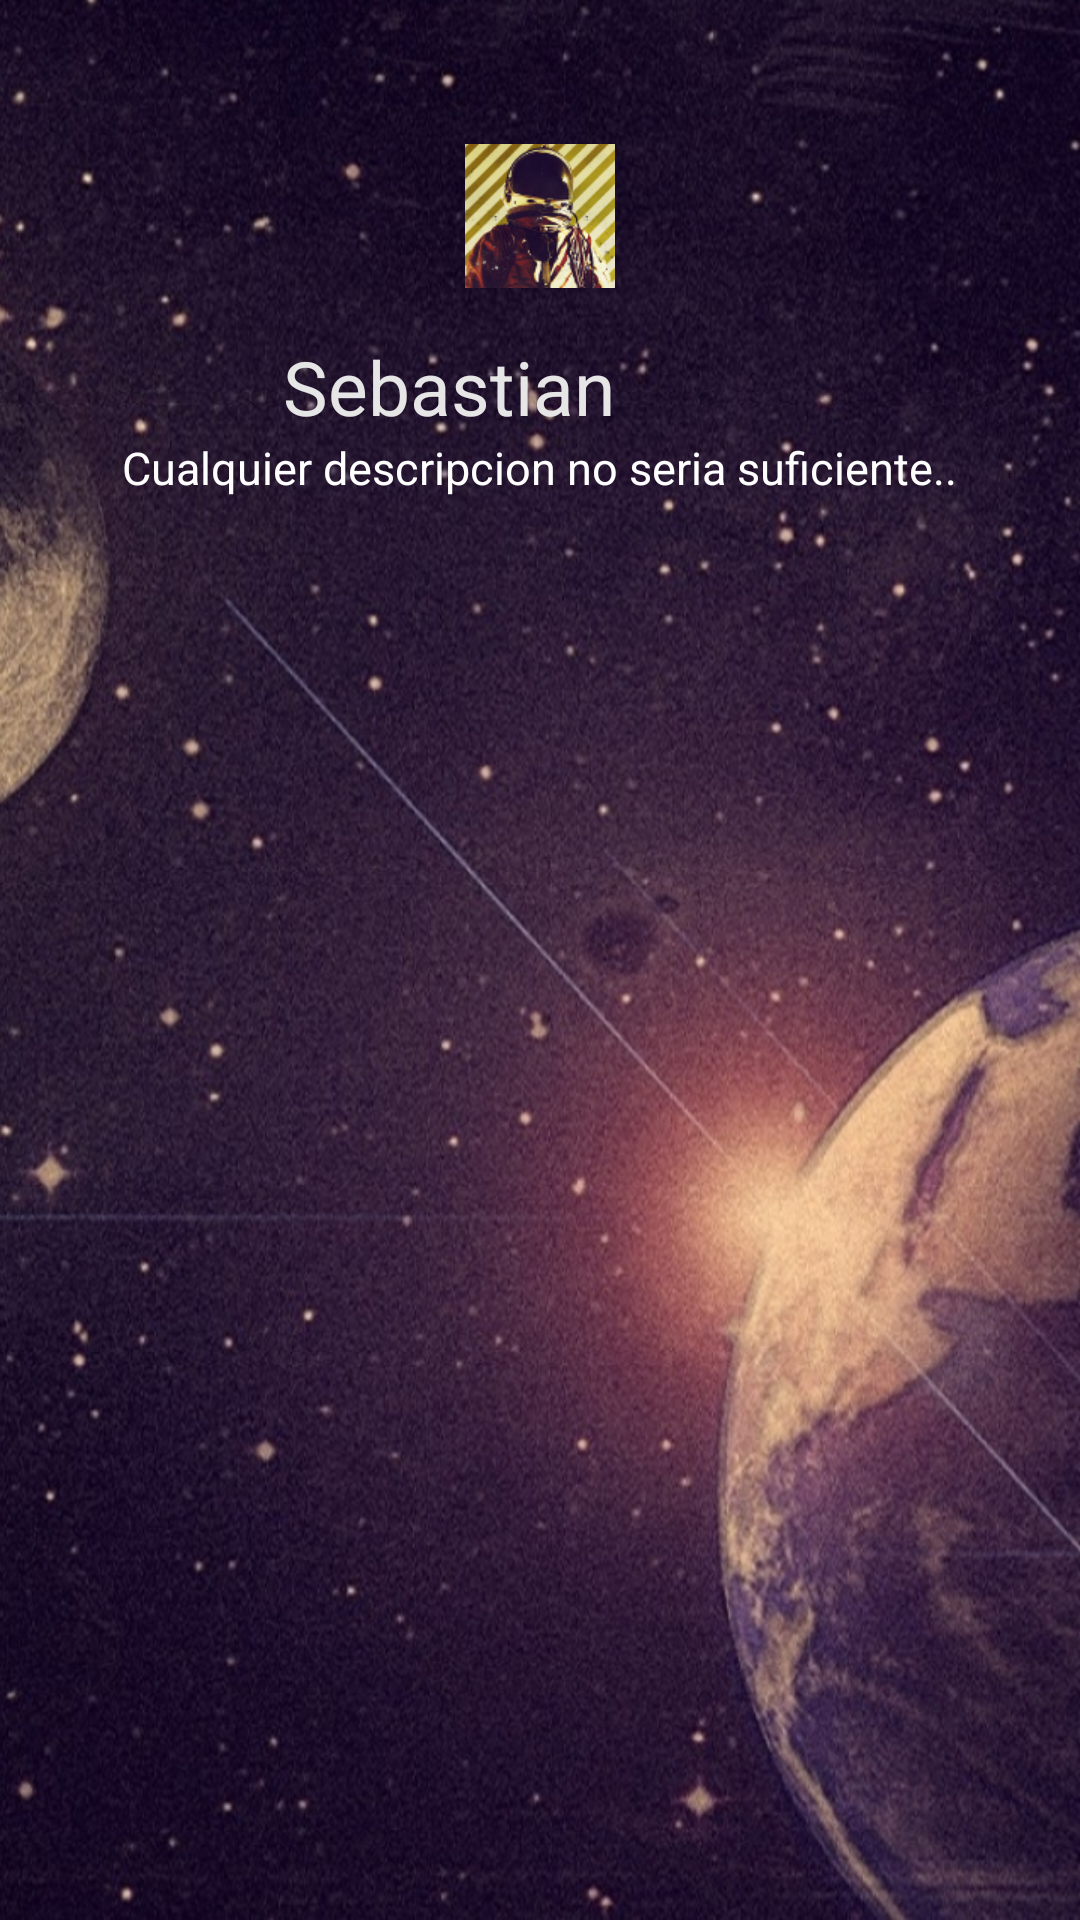

Named icons in this screenshot (1080px x 1920px) and their bounding boxes, (x1, y1, x2, y2):
userpic: (465, 144, 615, 288)
